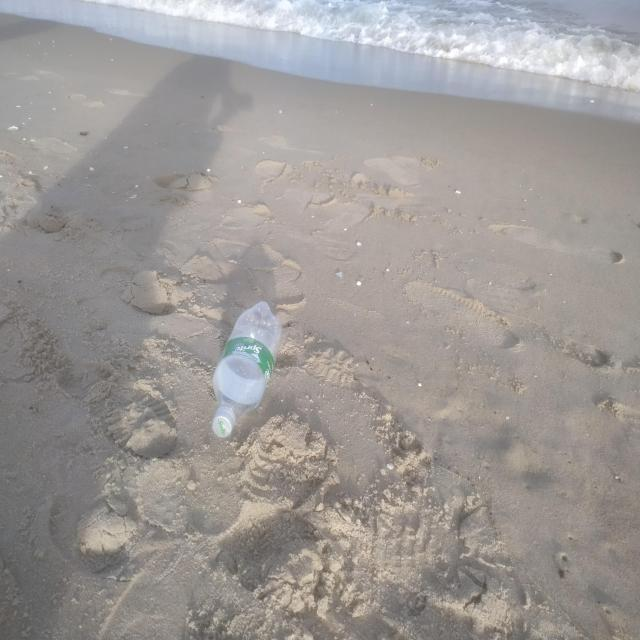litter: (215, 304, 282, 439)
